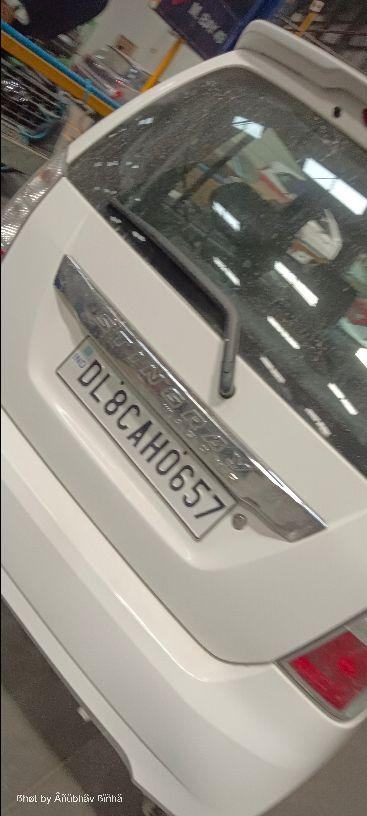license_plate: (1, 17, 365, 812), (54, 332, 237, 542)
